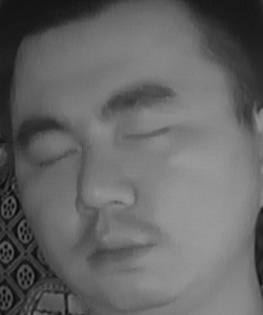blink: (28, 138, 80, 175), (122, 114, 175, 147)
mouth: (76, 225, 158, 281)
